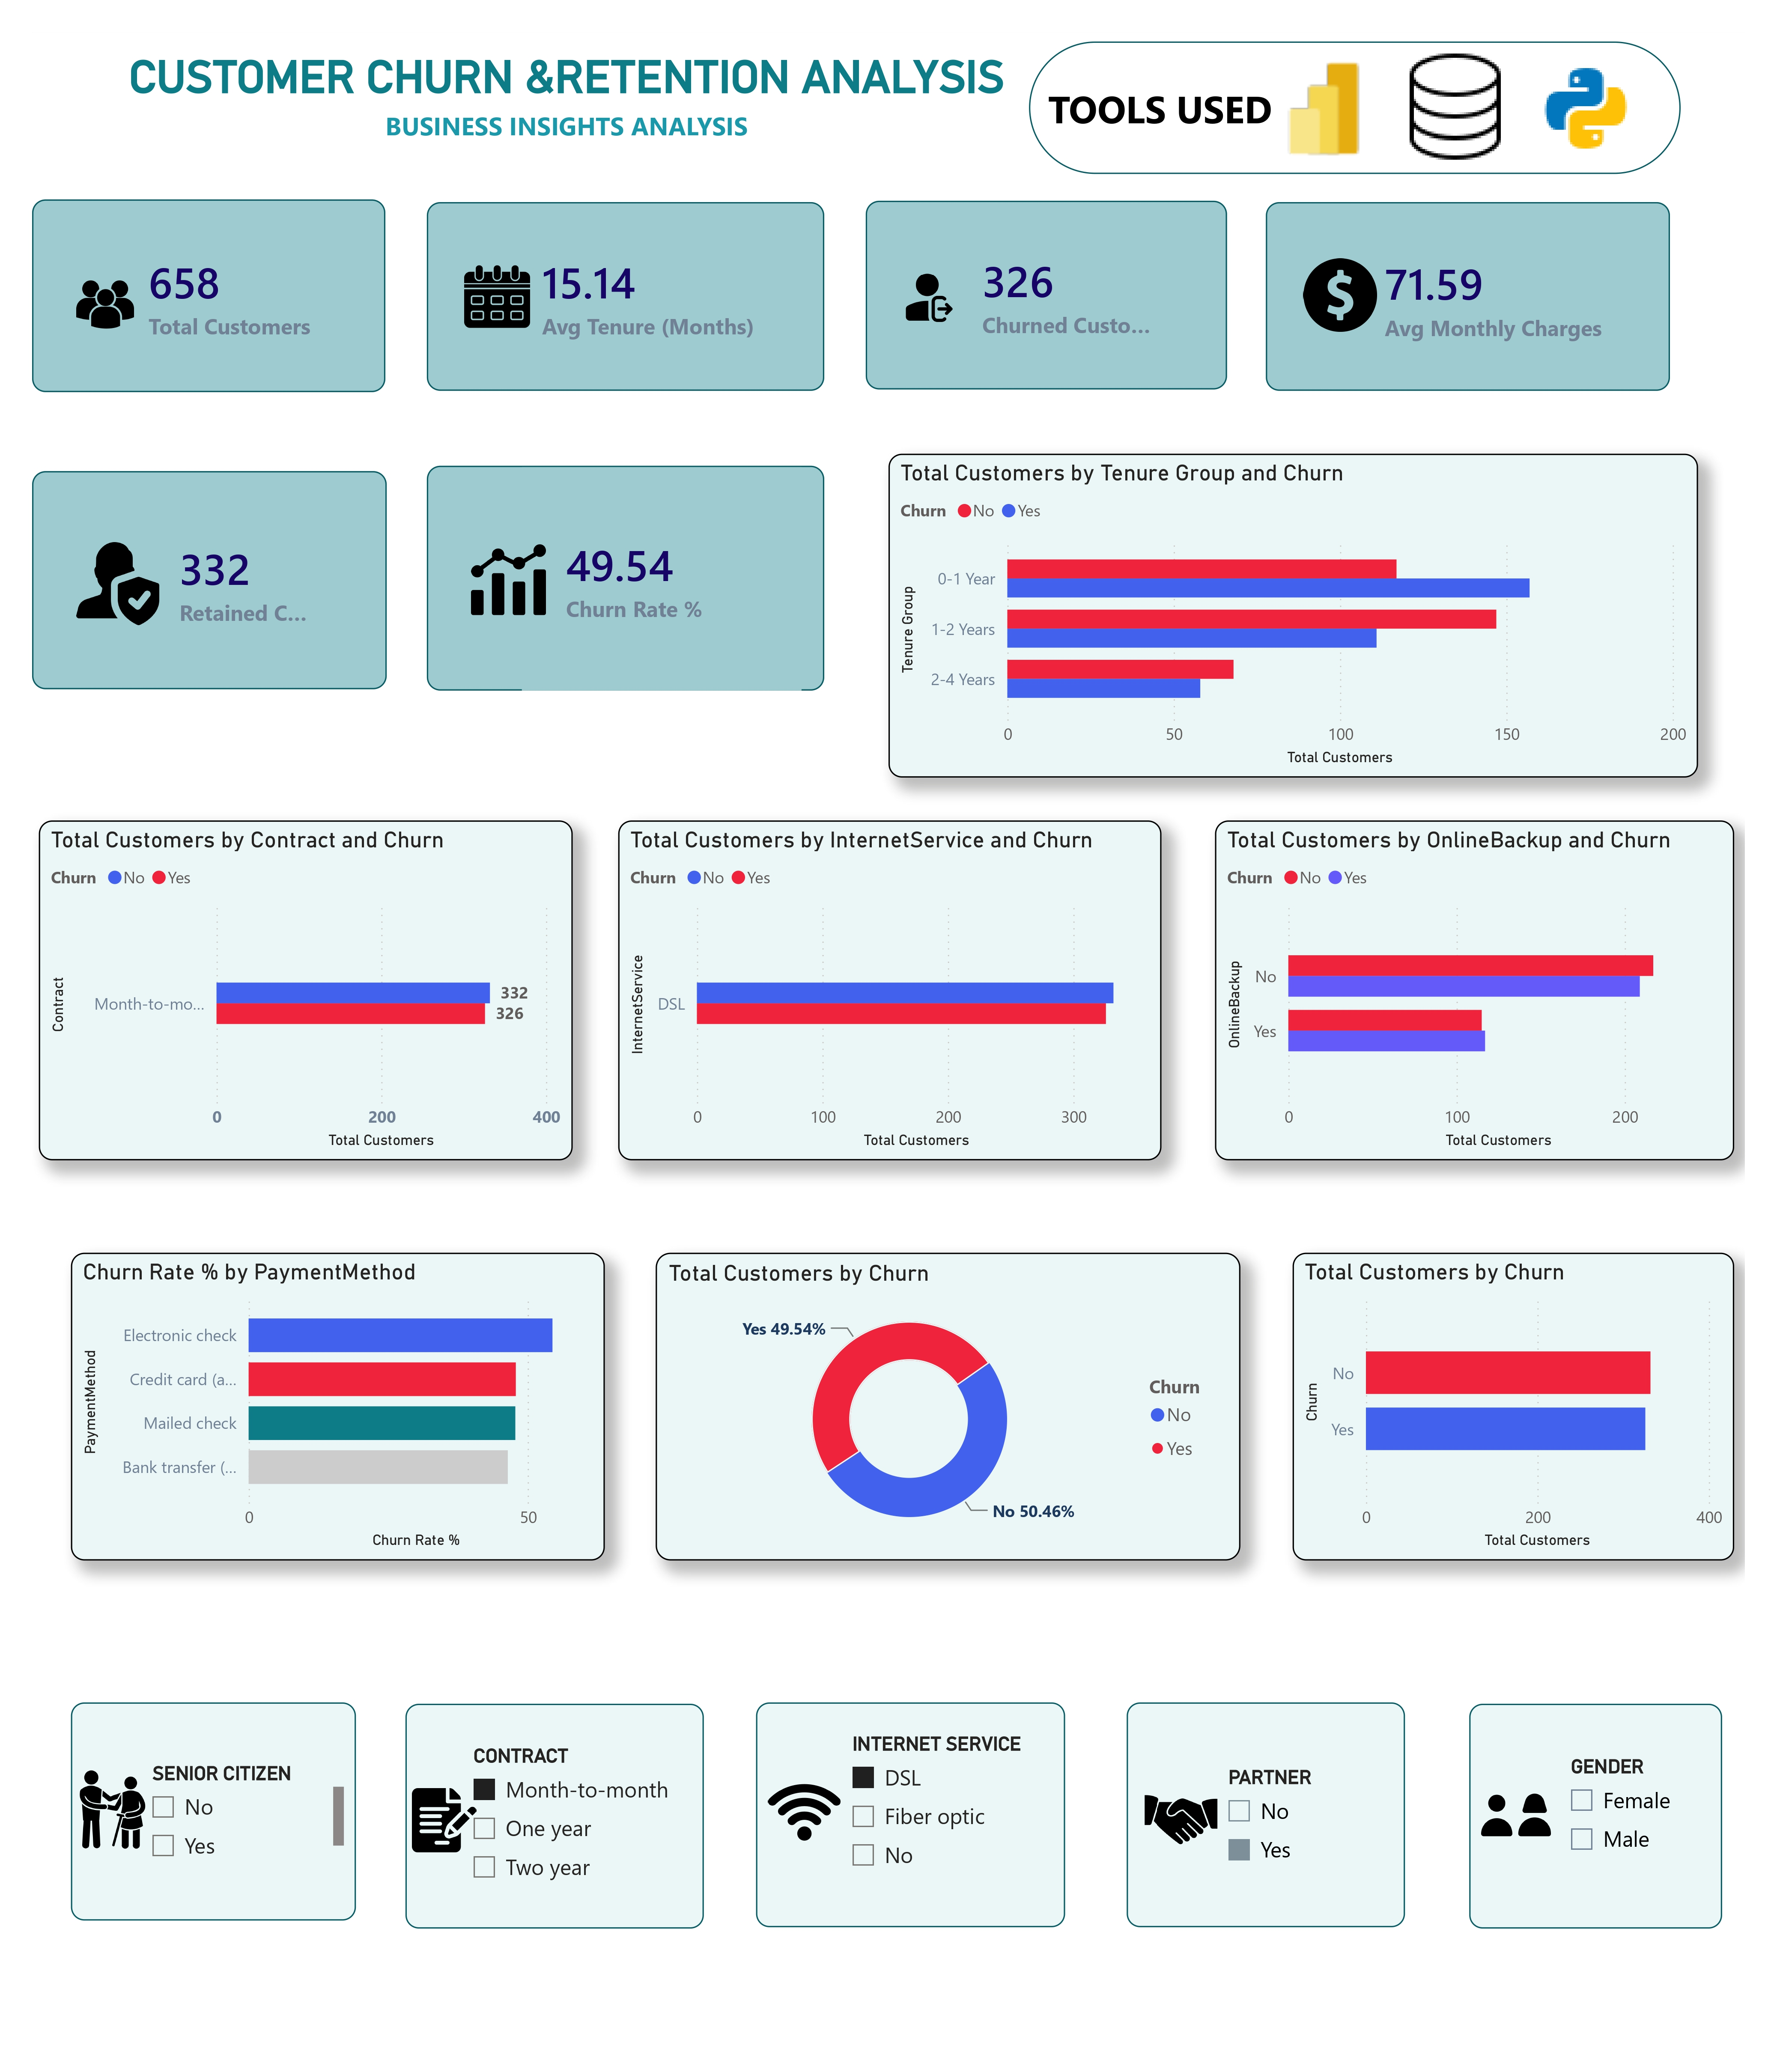

This screenshot's page, from the dashboard's own definition file:
{"tool":"powerbi","page":{"name":"Page 1","canvas":[1280,1500],"ordinal":0},"visuals":[{"type":"shape","title":"CUSTOMER CHURN & RETENTION ANALYSIS","box":[0,14.3,853.6,85.6],"z":0},{"type":"textbox","title":"CUSTOMER CHURN &RETENTION ANALYSIS","box":[0,14.3,798.9,73.7],"z":1000},{"type":"cardVisual","fields":{"Data":["Telco_Customer_Churn.Total Customers"]},"box":[21.6,123,233.8,150],"z":2000},{"type":"cardVisual","fields":{"Data":["Telco_Customer_Churn.Retained Customers"]},"box":[284.4,301.9,233.1,149.6],"z":3000},{"type":"cardVisual","fields":{"Data":["Telco_Customer_Churn.Avg Monthly Charges"]},"box":[20.2,301.9,234.5,149.6],"z":4000},{"type":"cardVisual","fields":{"Data":["Telco_Customer_Churn.Churn Rate %"]},"box":[291.1,121.3,246.6,150.9],"z":5000},{"type":"cardVisual","fields":{"Data":["Telco_Customer_Churn.Avg Tenure (Months)"]},"box":[582.2,121.3,257.4,150.9],"z":6000},{"type":"cardVisual","fields":{"Data":["Telco_Customer_Churn.Churned Customers"]},"box":[877.3,122.6,252,150.9],"z":7000},{"type":"textbox","box":[920.4,339.6,183.3,111.9],"z":8000},{"type":"clusteredBarChart","fields":{"Category":["Telco_Customer_Churn.Contract"],"Y":["Telco_Customer_Churn.Total Customers"],"Series":["Telco_Customer_Churn.Churn"]},"box":[582.9,315.9,589,348.5],"z":9000},{"type":"clusteredBarChart","fields":{"Category":["Telco_Customer_Churn.Tenure Group"],"Y":["Telco_Customer_Churn.Total Customers"],"Series":["Telco_Customer_Churn.Churn"]},"box":[48.9,525.8,468.8,336.3],"z":10000},{"type":"clusteredBarChart","fields":{"Category":["Telco_Customer_Churn.InternetService"],"Y":["Telco_Customer_Churn.Total Customers"],"Series":["Telco_Customer_Churn.Churn"]},"box":[582.9,695,322,254.8],"z":11000},{"type":"clusteredBarChart","fields":{"Category":["Telco_Customer_Churn.OnlineBackup"]},"box":[1029.2,798.9,150.8,150.8],"z":12000},{"type":"clusteredBarChart","fields":{"Category":["Telco_Customer_Churn.Churn"],"Y":["Telco_Customer_Churn.Total Customers"]},"box":[962,695,285.3,238.5],"z":13000},{"type":"clusteredBarChart","fields":{"Category":["Telco_Customer_Churn.PaymentMethod"],"Y":["Telco_Customer_Churn.Churn Rate %"]},"box":[57.1,933.4,399.5,220.1],"z":14000},{"type":"donutChart","fields":{"Category":["Telco_Customer_Churn.Churn"],"Y":["Telco_Customer_Churn.Total Customers"]},"box":[541.4,994.3,400,250],"z":15000},{"type":"textbox","title":"7,043 ","box":[674.3,1108.6,70,50],"z":16000},{"type":"slicer","fields":{"Values":["Telco_Customer_Churn.gender"]},"box":[1021.4,1027.1,150,92.9],"z":17000},{"type":"slicer","fields":{"Values":["Telco_Customer_Churn.SeniorCitizen"]},"box":[48.6,1257.1,150,151.4],"z":17001},{"type":"slicer","fields":{"Values":["Telco_Customer_Churn.Contract"]},"box":[284.3,1271.4,257.1,151.4],"z":17003},{"type":"slicer","fields":{"Values":["Telco_Customer_Churn.InternetService"]},"box":[632.9,1292.9,211.4,150],"z":17004},{"type":"slicer","fields":{"Values":["Telco_Customer_Churn.Partner"]},"box":[1028.6,1220,150,102.9],"z":17005}]}

Visuals, with their boxes on the page's 1280x1500 design canvas (x1, y1, x2, y2). These are canvas units, not pixel positions in the 1777x2072 screenshot, which may show the page scaled, cropped or inside an application window:
"CUSTOMER CHURN & RETENTION ANALYSIS" shape: [0,14,854,100]
"CUSTOMER CHURN &RETENTION ANALYSIS" textbox: [0,14,799,88]
cardVisual - Telco_Customer_Churn.Total Customers: [22,123,255,273]
cardVisual - Telco_Customer_Churn.Retained Customers: [284,302,518,452]
cardVisual - Telco_Customer_Churn.Avg Monthly Charges: [20,302,255,452]
cardVisual - Telco_Customer_Churn.Churn Rate %: [291,121,538,272]
cardVisual - Telco_Customer_Churn.Avg Tenure (Months): [582,121,840,272]
cardVisual - Telco_Customer_Churn.Churned Customers: [877,123,1129,274]
textbox: [920,340,1104,452]
clusteredBarChart - Telco_Customer_Churn.Contract x Telco_Customer_Churn.Total Customers: [583,316,1172,664]
clusteredBarChart - Telco_Customer_Churn.Tenure Group x Telco_Customer_Churn.Total Customers: [49,526,518,862]
clusteredBarChart - Telco_Customer_Churn.InternetService x Telco_Customer_Churn.Total Customers: [583,695,905,950]
clusteredBarChart - Telco_Customer_Churn.OnlineBackup: [1029,799,1180,950]
clusteredBarChart - Telco_Customer_Churn.Churn x Telco_Customer_Churn.Total Customers: [962,695,1247,934]
clusteredBarChart - Telco_Customer_Churn.PaymentMethod x Telco_Customer_Churn.Churn Rate %: [57,933,457,1154]
donutChart - Telco_Customer_Churn.Churn x Telco_Customer_Churn.Total Customers: [541,994,941,1244]
"7,043 " textbox: [674,1109,744,1159]
slicer - Telco_Customer_Churn.gender: [1021,1027,1171,1120]
slicer - Telco_Customer_Churn.SeniorCitizen: [49,1257,199,1408]
slicer - Telco_Customer_Churn.Contract: [284,1271,541,1423]
slicer - Telco_Customer_Churn.InternetService: [633,1293,844,1443]
slicer - Telco_Customer_Churn.Partner: [1029,1220,1179,1323]
